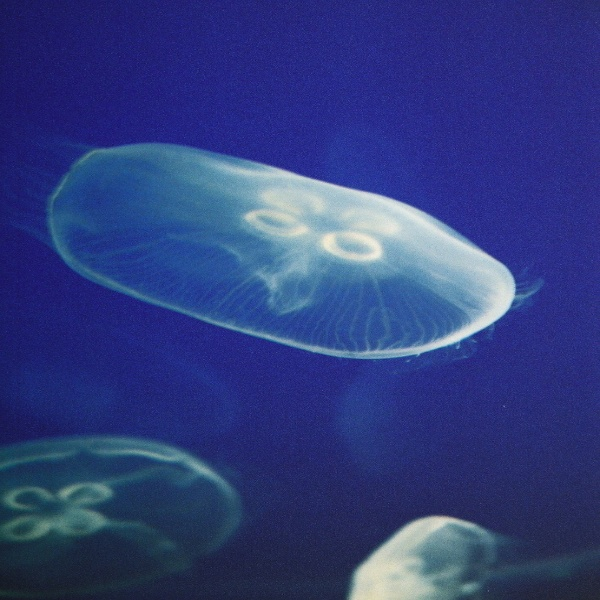Jellyfish: (0, 140, 544, 373), (1, 435, 242, 598), (344, 510, 600, 599)
